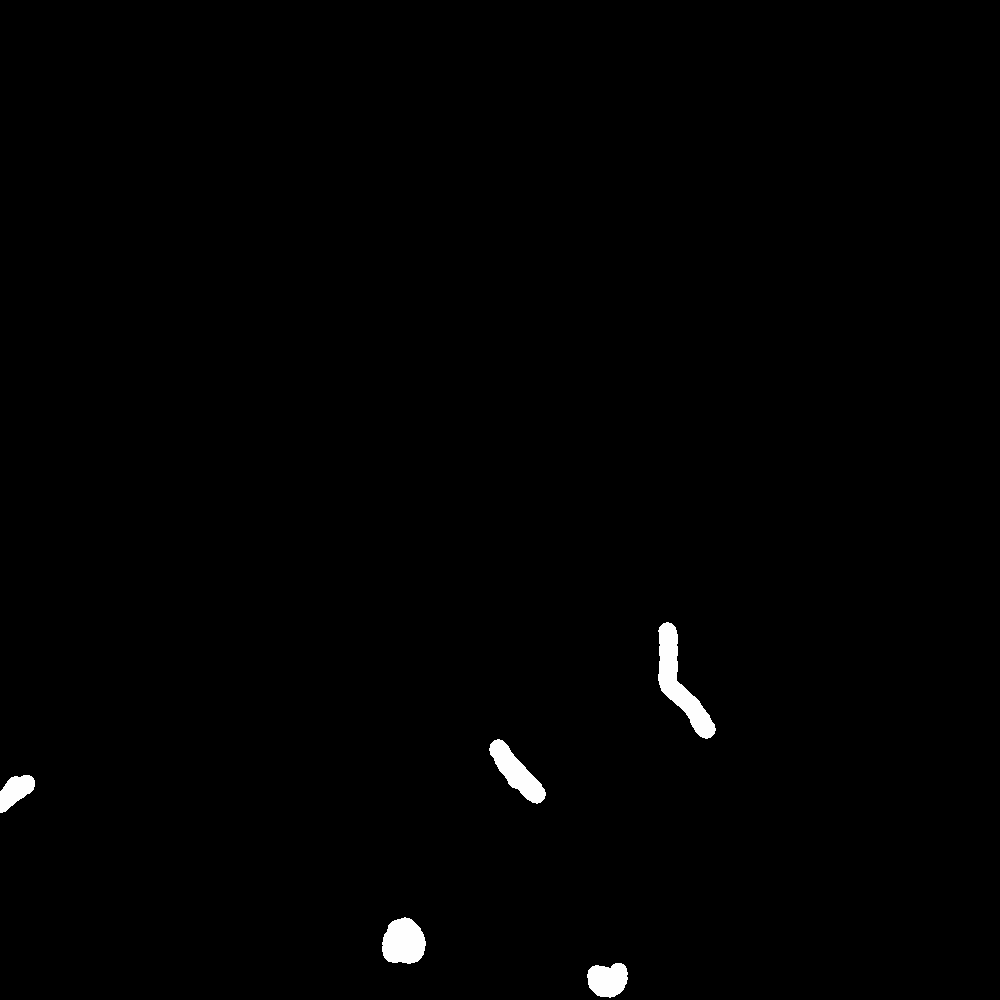illegal: (381, 909, 434, 968), (582, 957, 623, 994)
